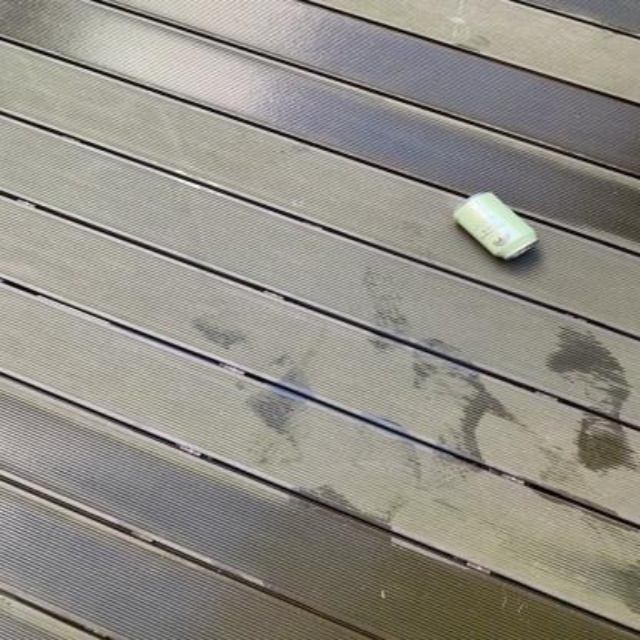trash: (454, 192, 535, 258)
